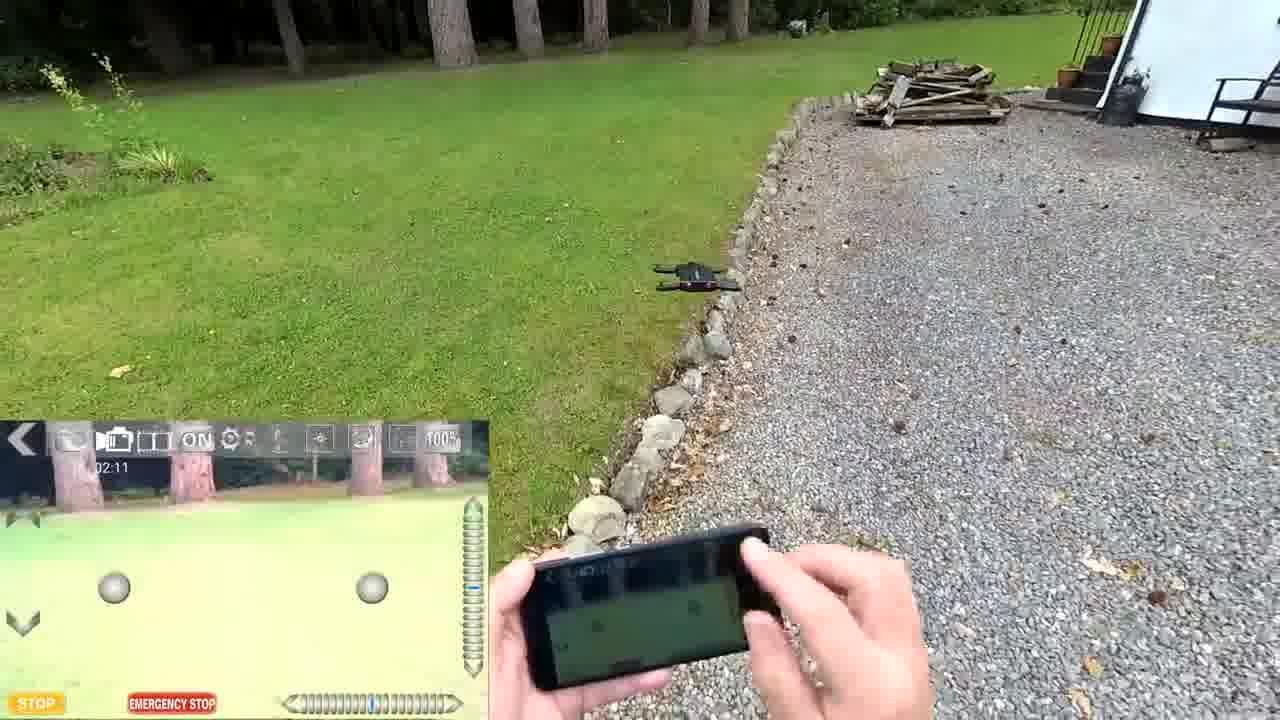drone: (634, 246, 759, 315)
